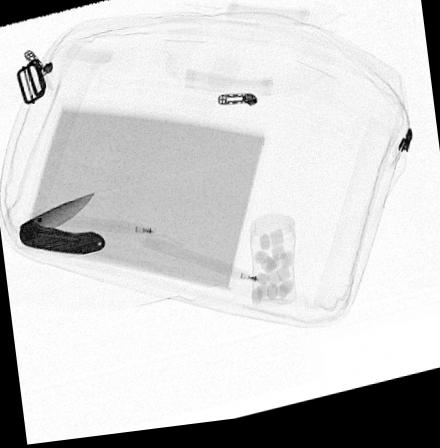Knife: (15, 193, 106, 258)
